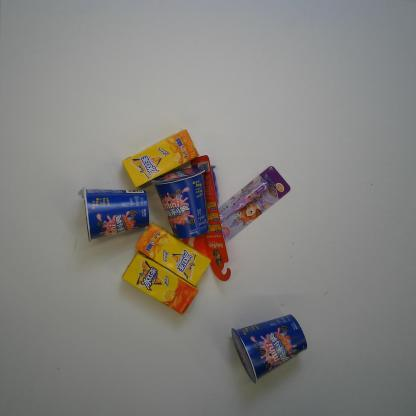Dessert: (226, 313, 310, 388), (74, 184, 152, 243), (151, 164, 209, 242)
Drink: (119, 127, 202, 190), (133, 221, 211, 286), (120, 252, 200, 315)
Personal Hygiene: (178, 164, 293, 258), (188, 152, 232, 283)
